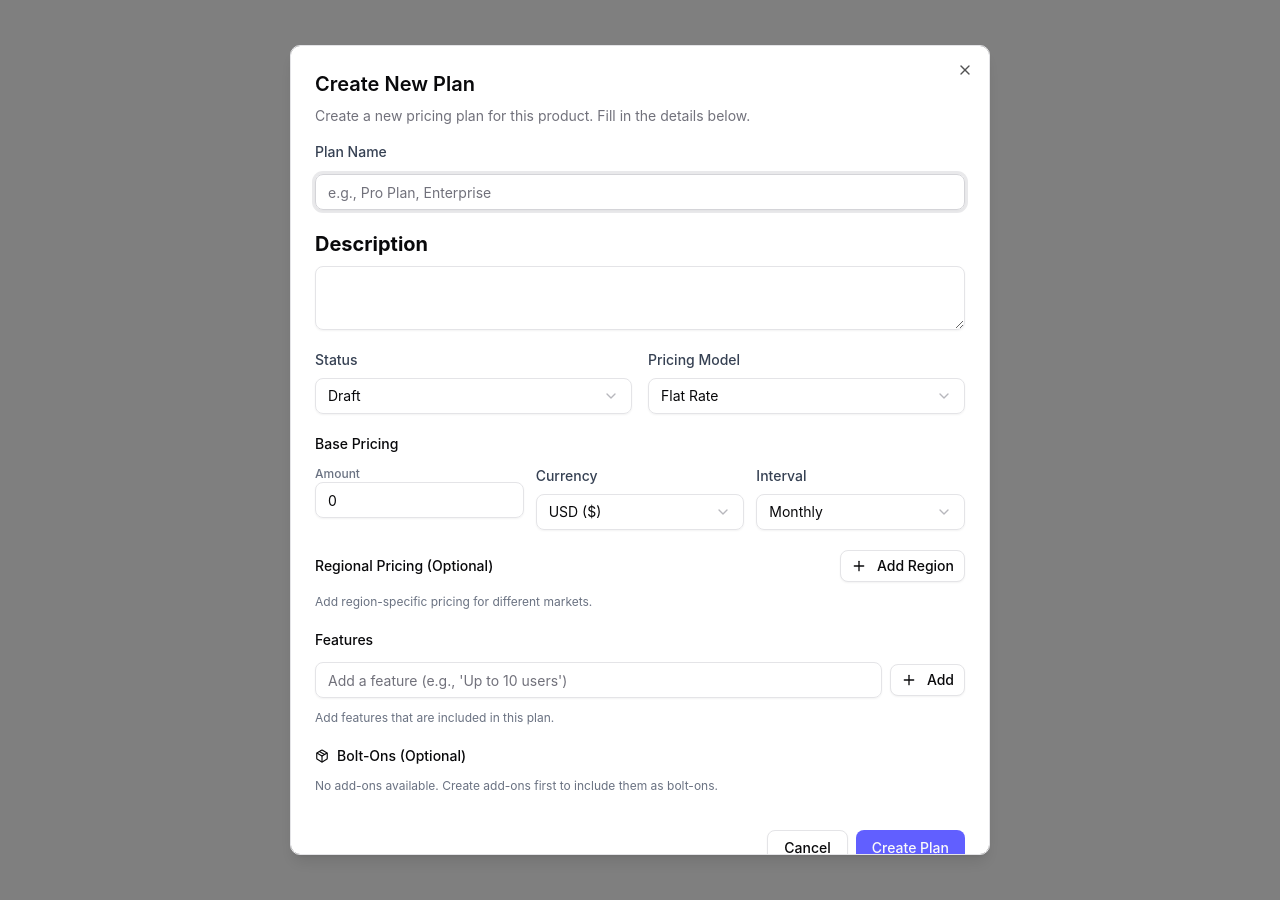
Scenario: ProductPlanDialog › Form Submission › should show error message when submission fails
This screenshot has width=1280, height=900.
In the field labelled "Plan Name": coordinates (640, 192) 315,174 -> 965,210, type "New Plan"
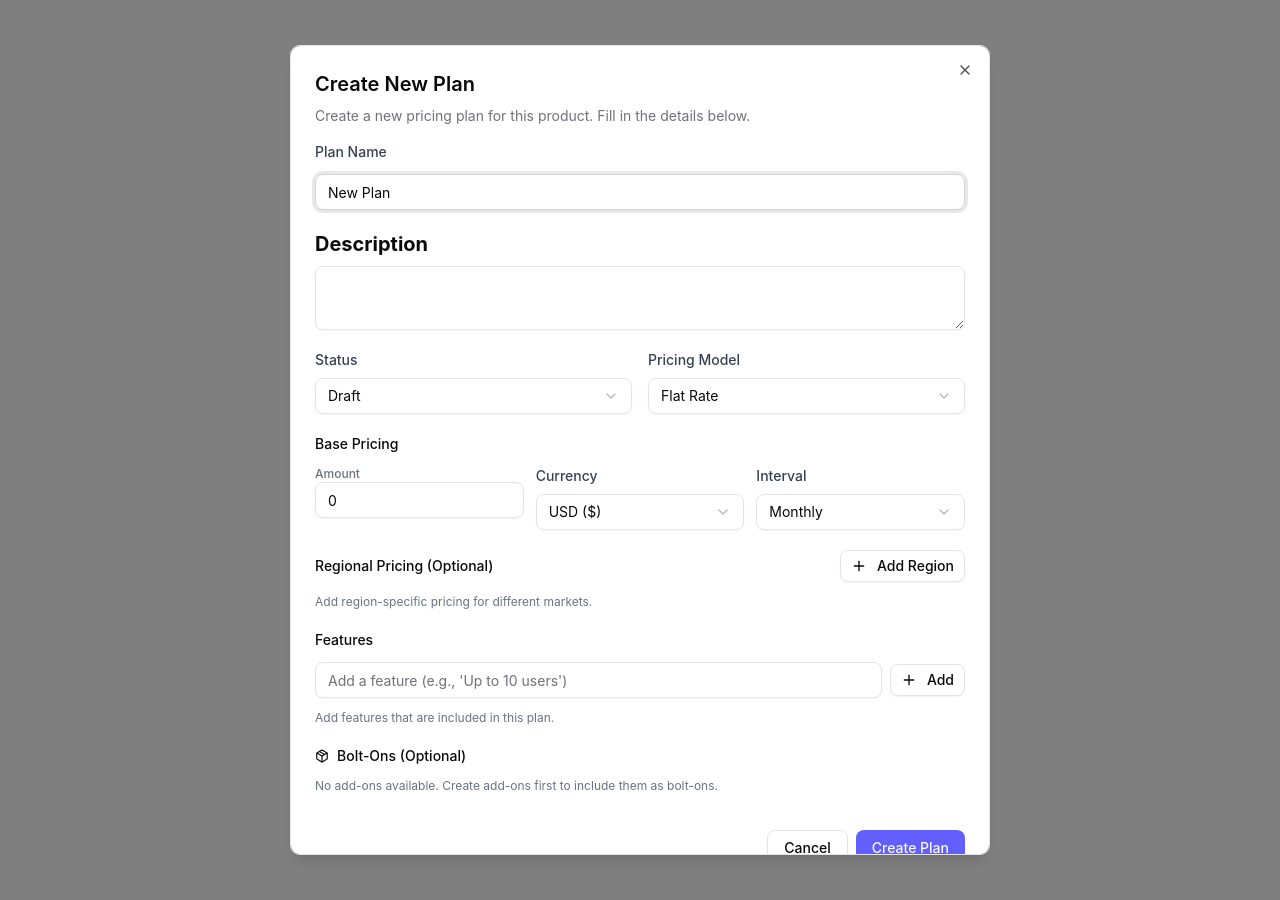
Replace the text in the number field with placeholder "0.00" with "99": coordinates (419, 500) 315,482 -> 524,518
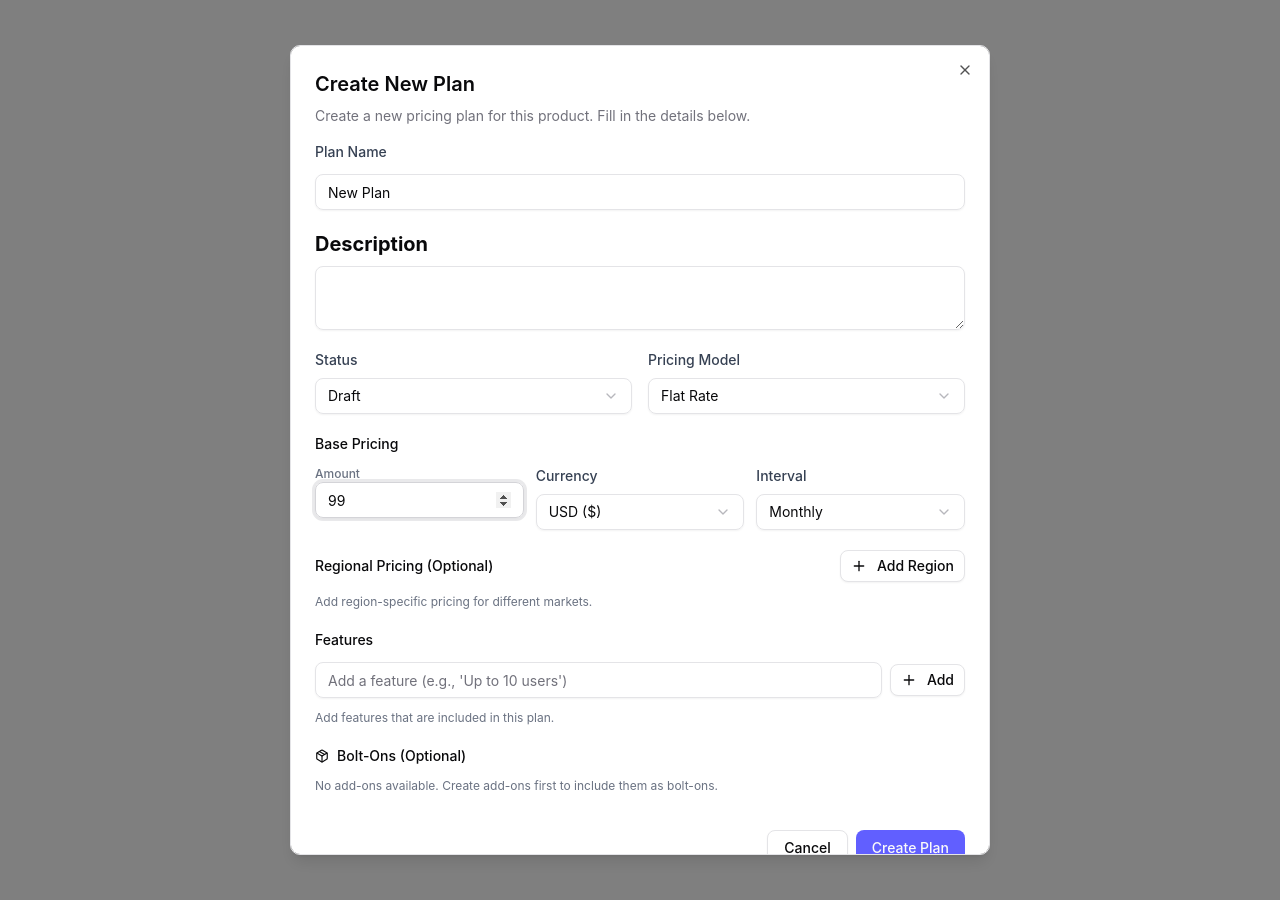
Click the button "Create Plan": coordinates (910, 848) 856,830 -> 965,866
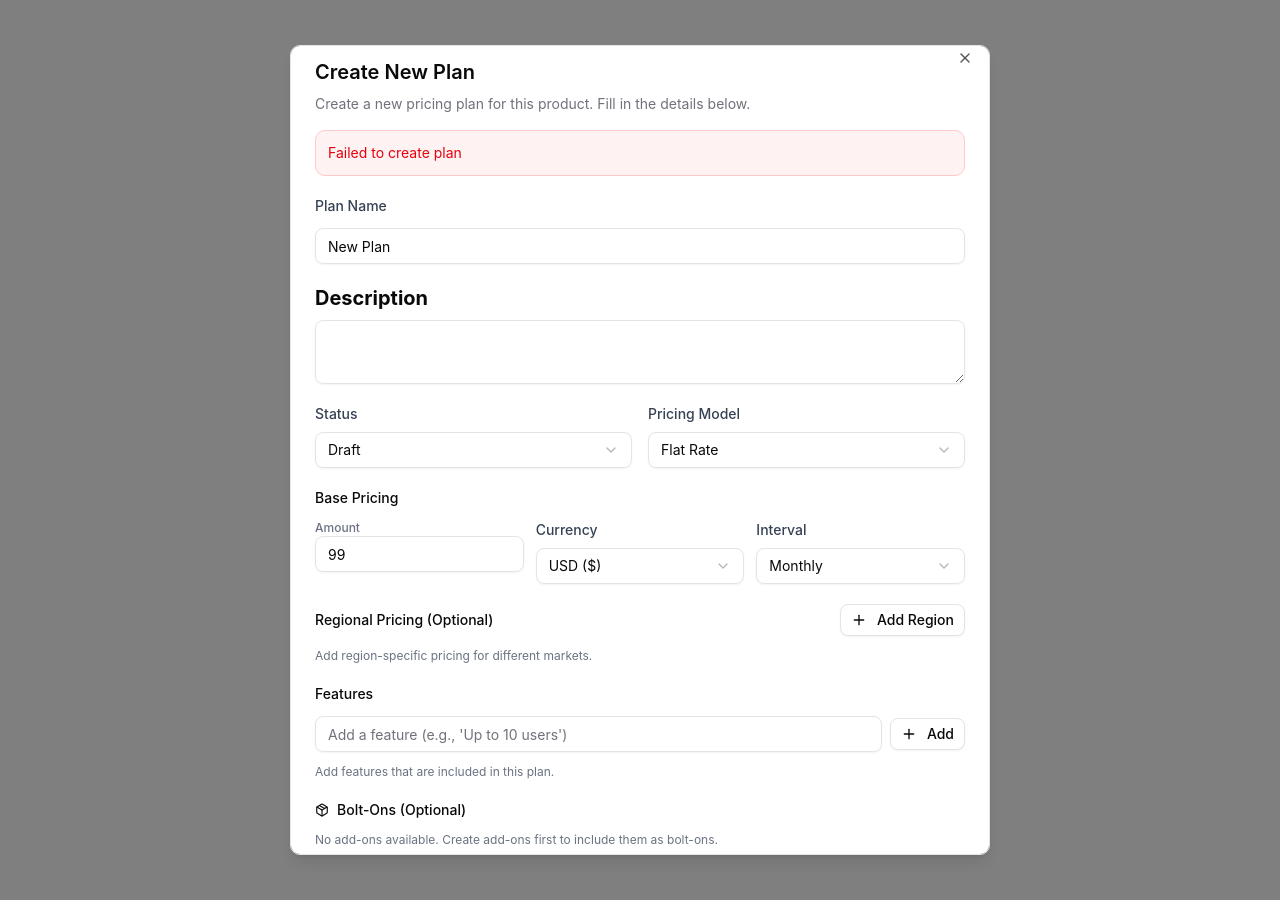
Expected: the text "Failed to create plan" is shown, 315,130 -> 965,176
